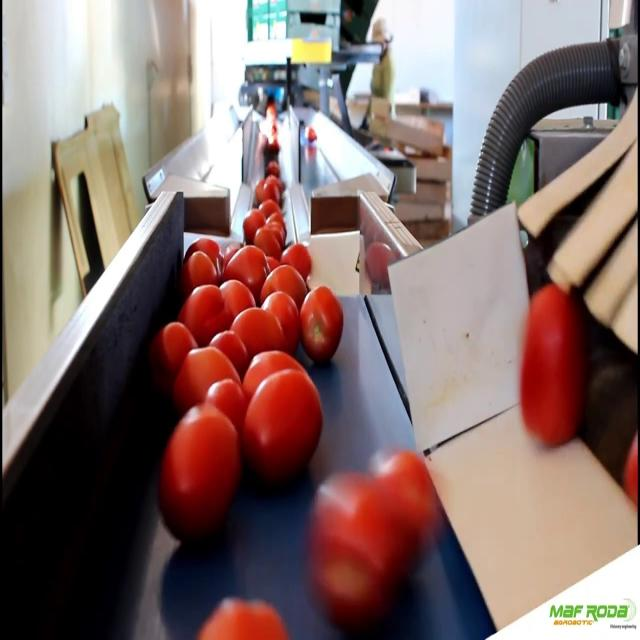Tomato: (311, 472, 396, 634), (158, 403, 240, 549), (517, 288, 586, 461), (378, 453, 444, 571), (253, 380, 326, 478), (168, 345, 240, 406), (196, 598, 297, 640), (304, 293, 341, 362), (229, 314, 284, 358), (183, 284, 226, 336), (154, 324, 191, 384), (260, 266, 306, 309), (226, 244, 267, 290), (623, 434, 640, 513), (184, 254, 217, 291), (262, 298, 298, 330), (279, 244, 312, 274), (256, 228, 276, 258), (244, 210, 264, 238), (262, 176, 282, 202), (193, 238, 219, 254), (305, 125, 316, 141)
